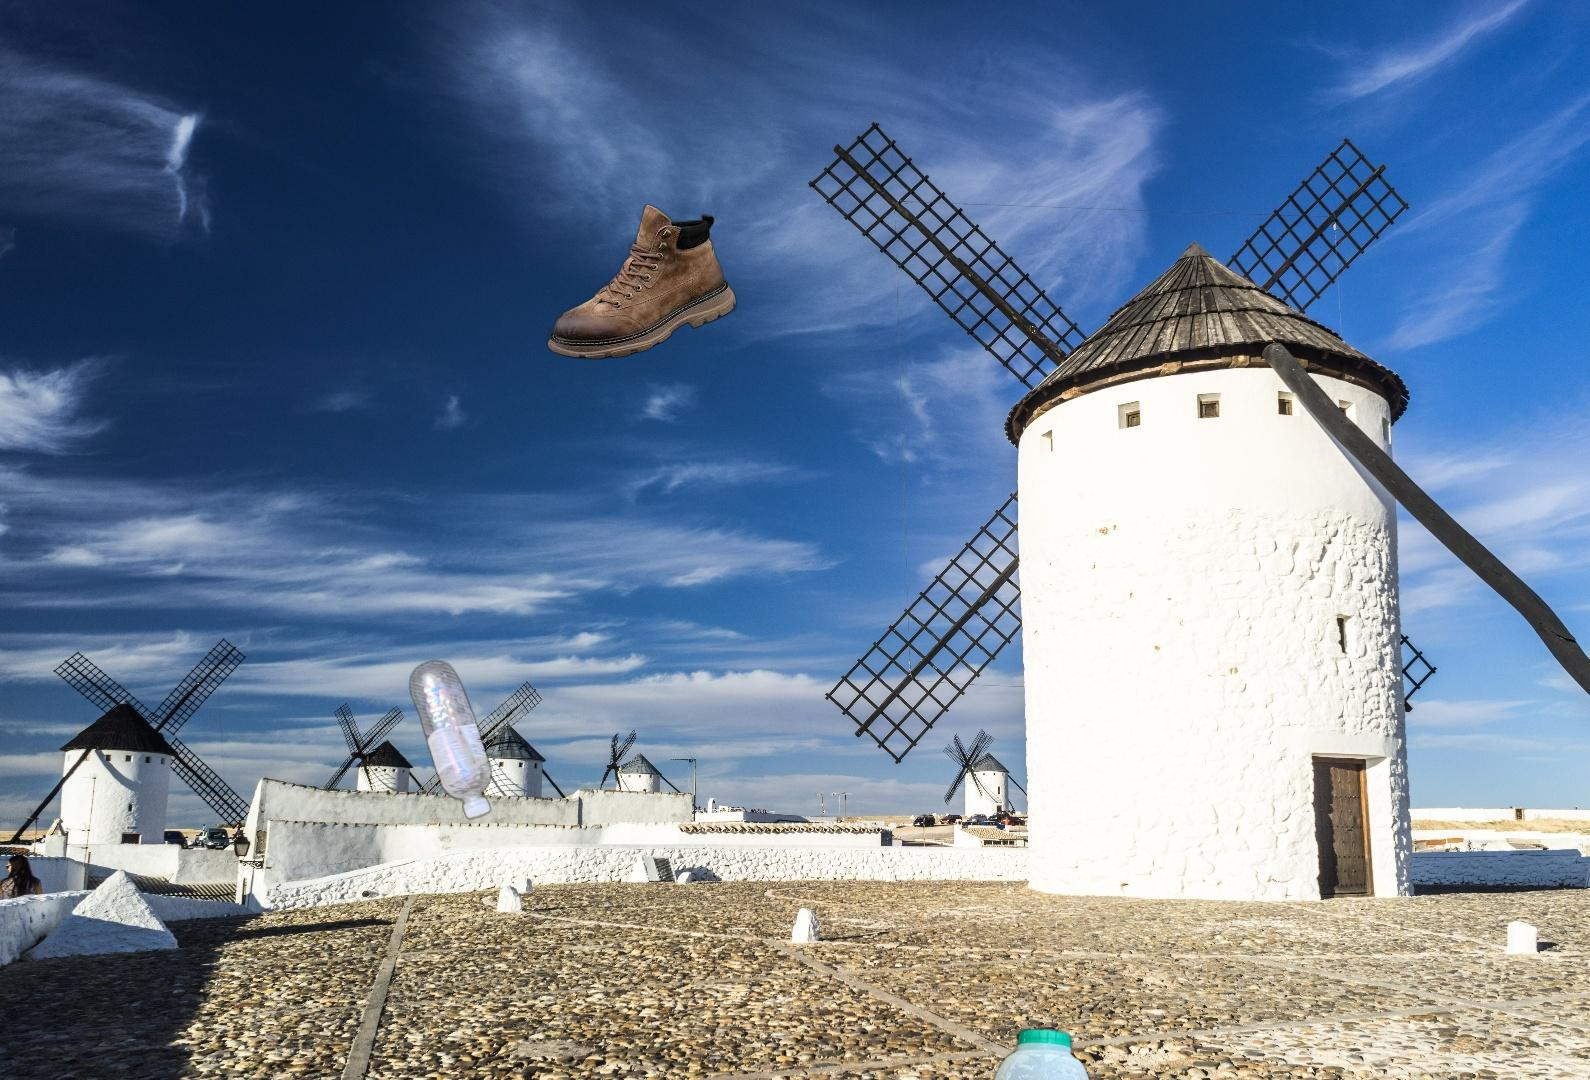plastic-bottles: (405, 655, 495, 824), (975, 1022, 1097, 1080)
shoes: (545, 198, 740, 362)
